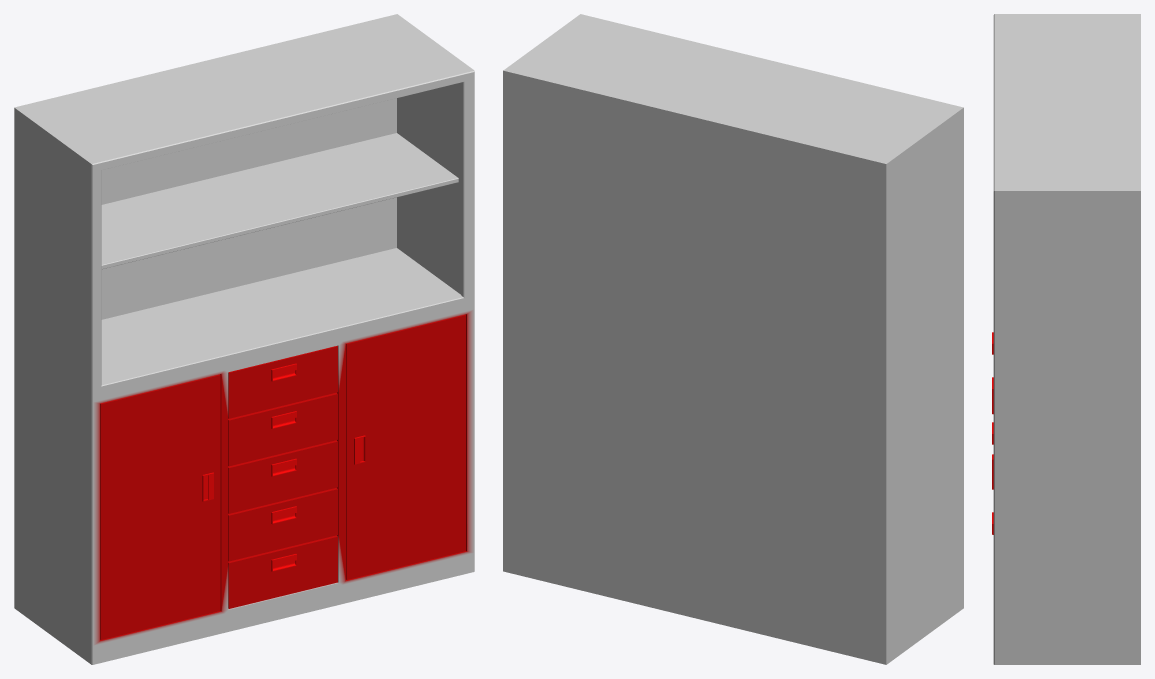
The model's file is Lockers_02_A_SM.FBX.
3 views of the same model, side by side, from view 1: azimuth 30°, elevation 25°; view 2: azimuth 150°, elevation 25°; view 3: azimuth 270°, elevation 25° (orthographic). The views are drawn at different scales.
Visible parts, largest first — view 1: Lockers_02_A_SM; view 2: Lockers_02_A_SM; view 3: Lockers_02_A_SM.
Part boxes in pixels (box(x1,y1,x2,y2)): Lockers_02_A_SM: box(14, 14, 474, 664); Lockers_02_A_SM: box(503, 14, 963, 664); Lockers_02_A_SM: box(992, 14, 1140, 664).
Size of the model in its own units: 209 by 74.31 by 261.
